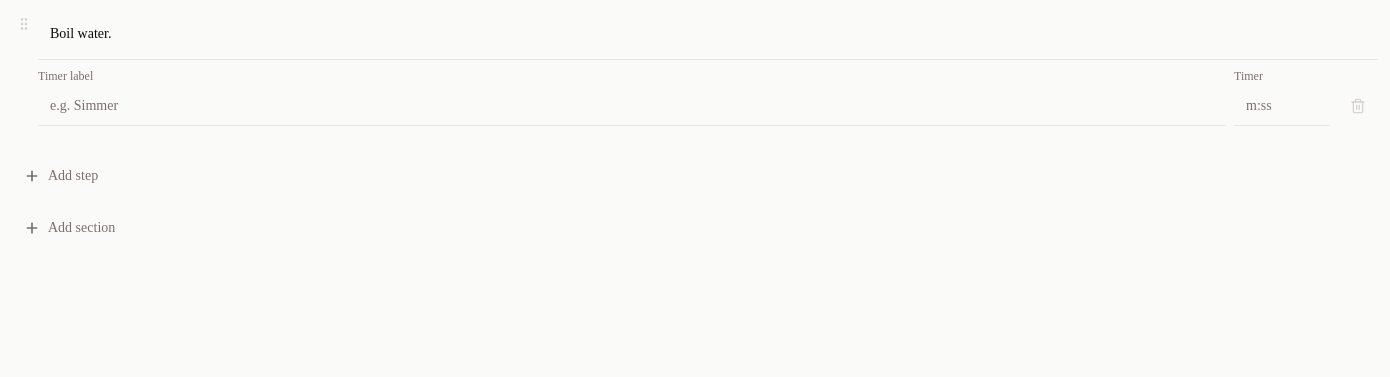
Test: InstructionsEditor › adds a step to the list
Click the button "Add step": (73, 176) [12,154,1378,198]
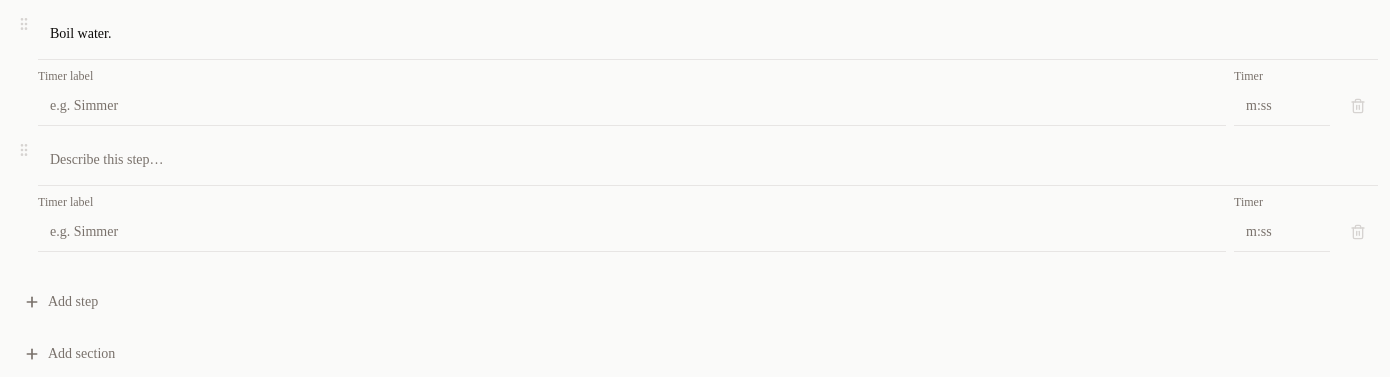
Now the number of text boxes named "Step instructions" is 2, box [38,16,1378,60]; [38,142,1378,186]
